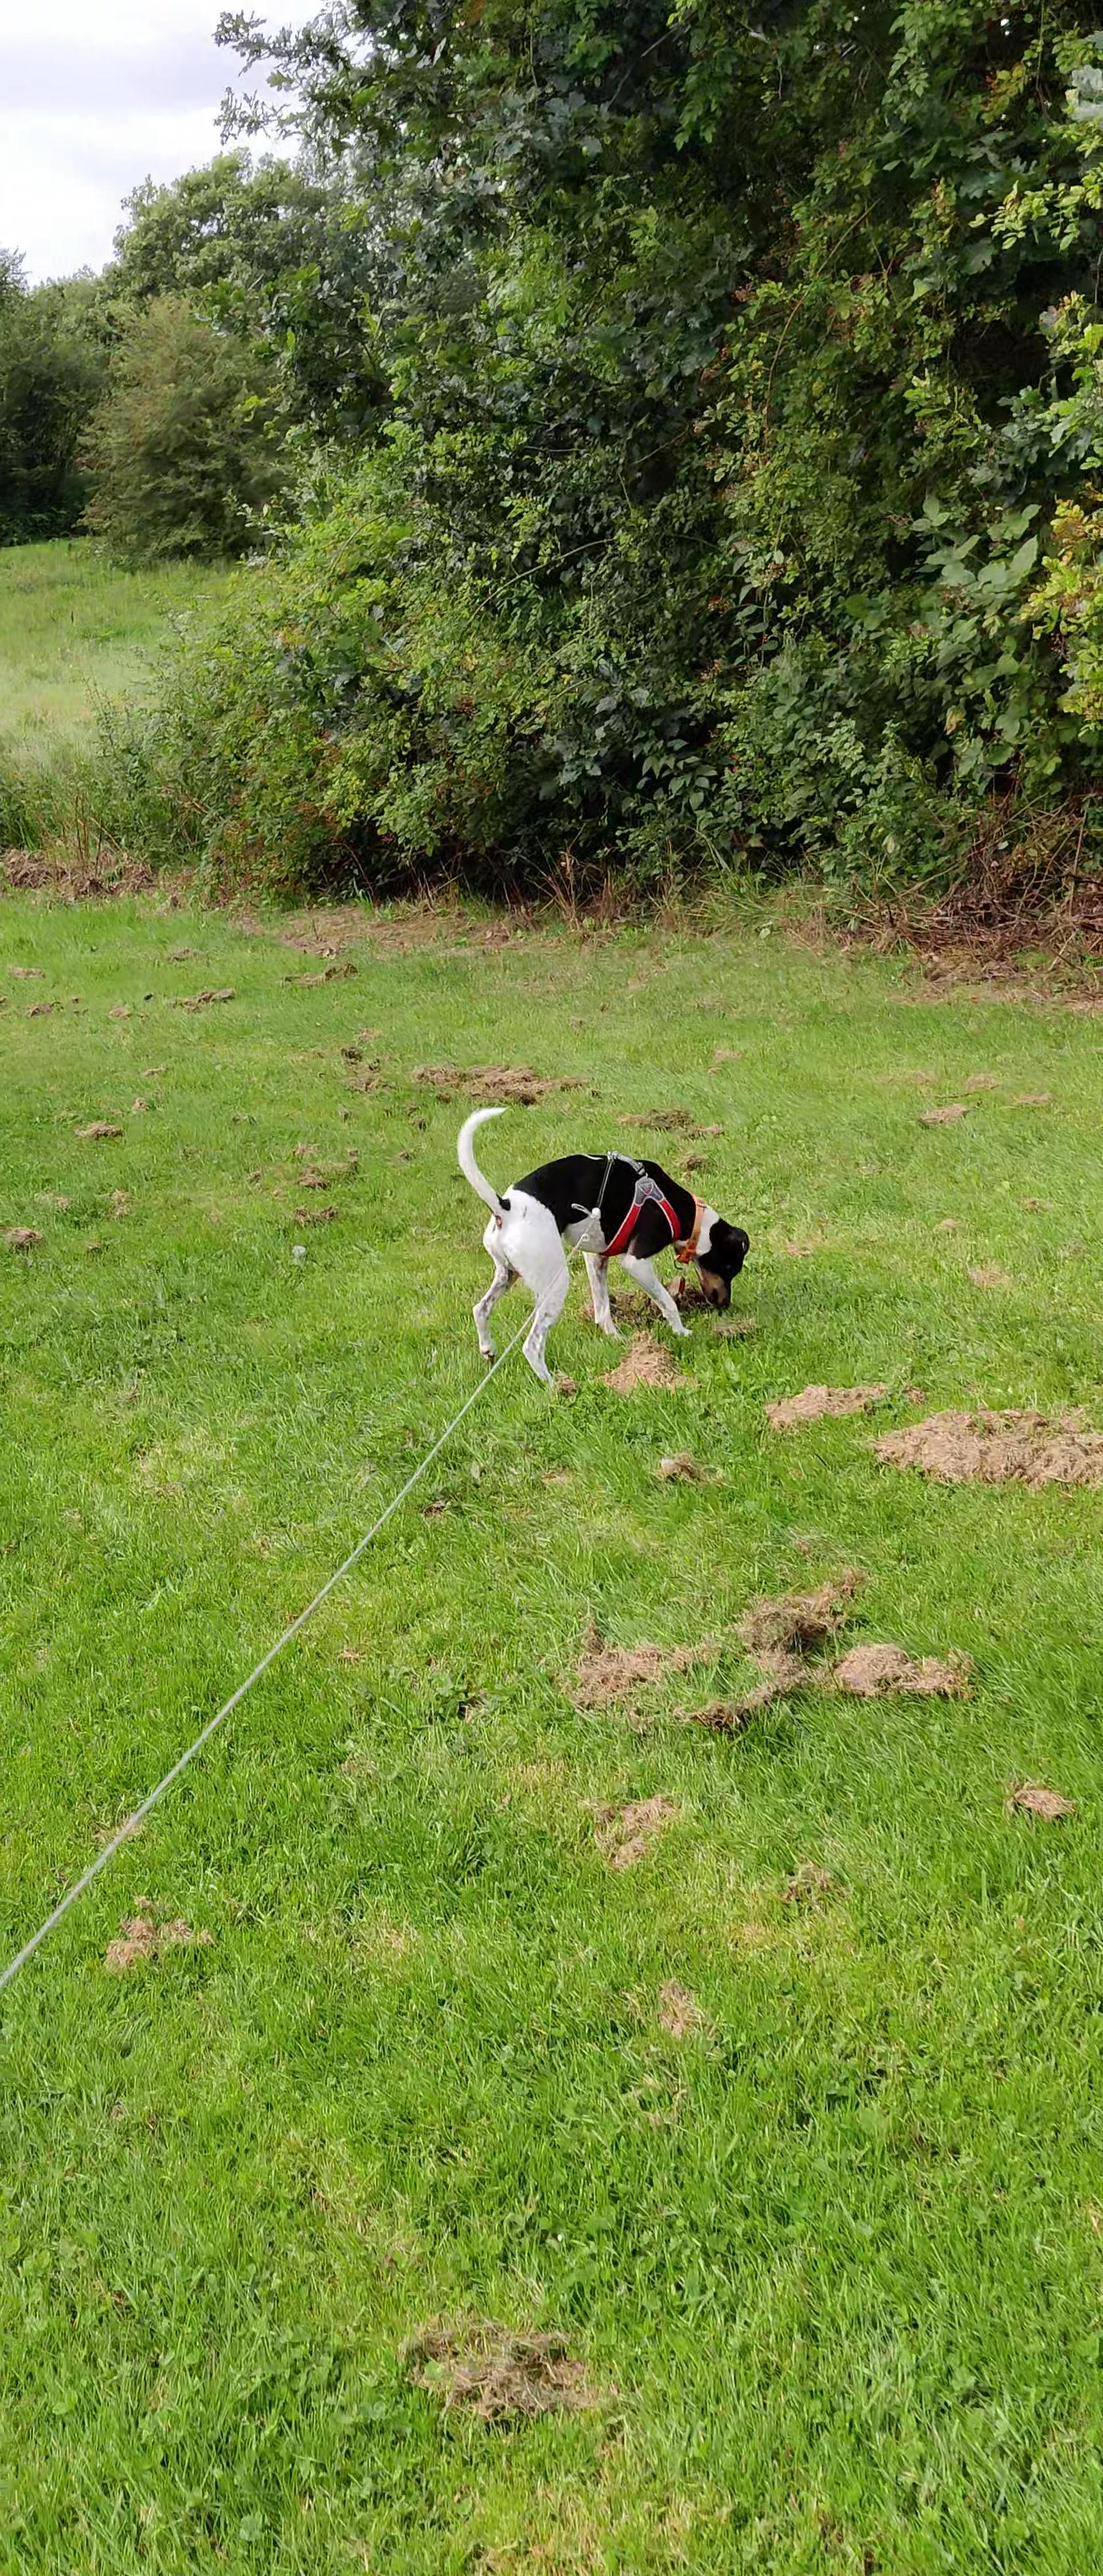Dog: (437, 1089, 763, 1403)
